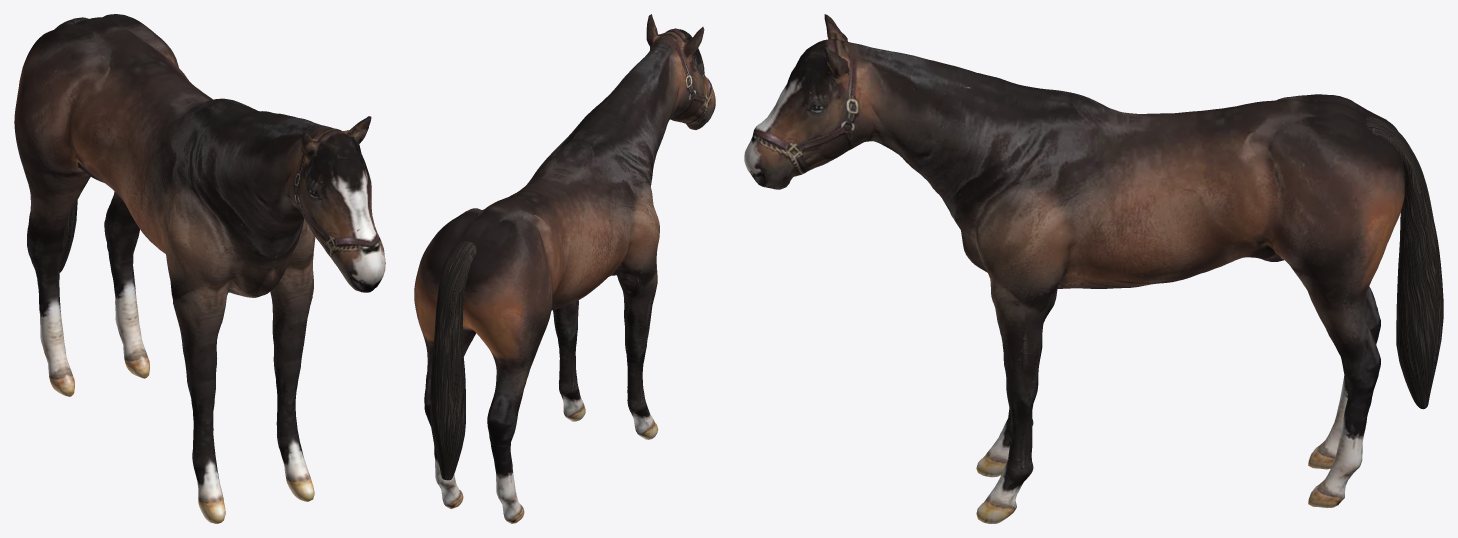
The model's file is horse.glb.
3 views of the same model, side by side, from view 1: azimuth 30°, elevation 25°; view 2: azimuth 150°, elevation 25°; view 3: azimuth 270°, elevation 25° (orthographic). The views are drawn at different scales.
Visible parts, largest first — view 1: Mesh_0.002_Material.001_0, Plane.001_Material.002_0; view 2: Mesh_0.002_Material.001_0, Plane.001_Material.002_0; view 3: Mesh_0.002_Material.001_0, Plane.001_Material.002_0.
Part boxes in pixels (x1,y1,x2,y2): Mesh_0.002_Material.001_0: (14, 14, 385, 523); Plane.001_Material.002_0: (54, 17, 88, 272); Mesh_0.002_Material.001_0: (414, 14, 715, 523); Plane.001_Material.002_0: (430, 241, 476, 480); Mesh_0.002_Material.001_0: (744, 14, 1404, 523); Plane.001_Material.002_0: (1364, 116, 1443, 409).
Bounding box in the file's own units: 2.69 × 7.41 × 9.99.
Materials: 2 (2 with a texture image).
